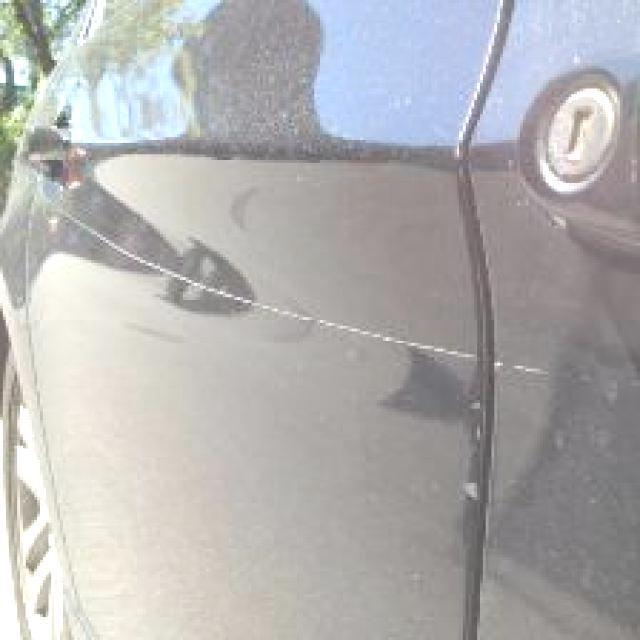minor: (57, 208, 470, 382), (497, 359, 545, 400)
